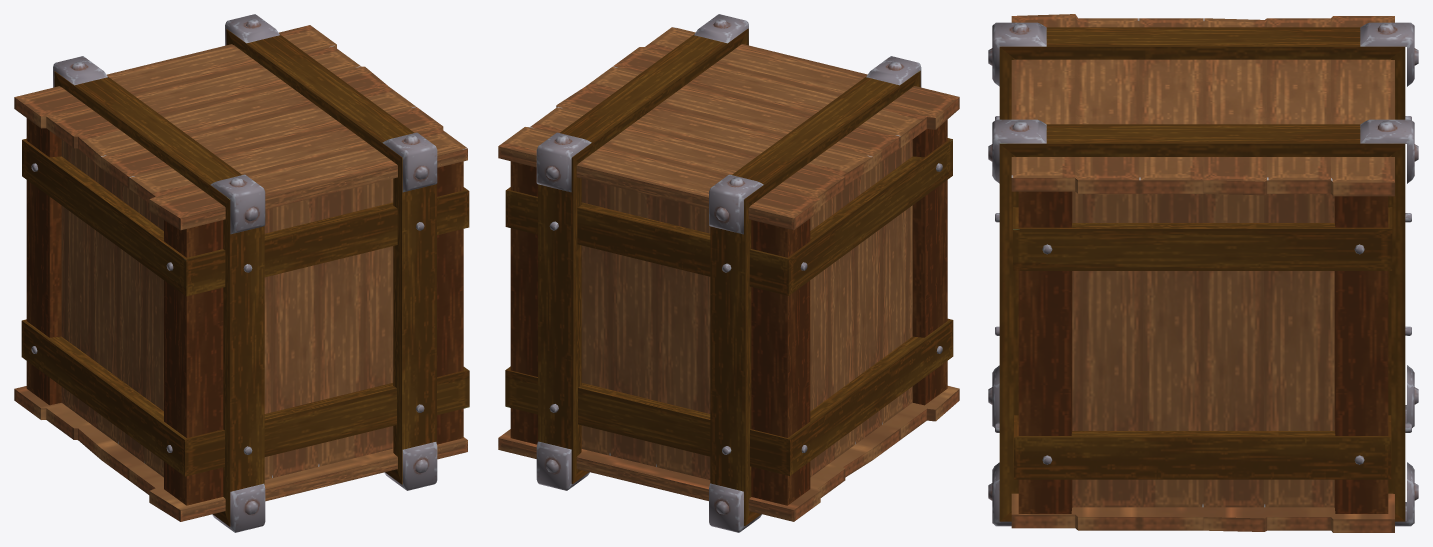
The model's file is crate.glb.
3 renders of one model, left to right at view 1: azimuth 30°, elevation 25°; view 2: azimuth 150°, elevation 25°; view 3: azimuth 270°, elevation 25°, orthographic. The views are drawn at different scales.
Parts seen in each view (by area): view 1: Crate_Wooden; view 2: Crate_Wooden; view 3: Crate_Wooden.
Boxes of the visible parts, x1,y1,x2,y2 form: Crate_Wooden: (14, 14, 469, 532); Crate_Wooden: (498, 14, 959, 532); Crate_Wooden: (988, 14, 1418, 532).
Bounding box in the file's own units: 0.8423 × 0.9309 × 0.9083.
2 materials, 2 textured.
